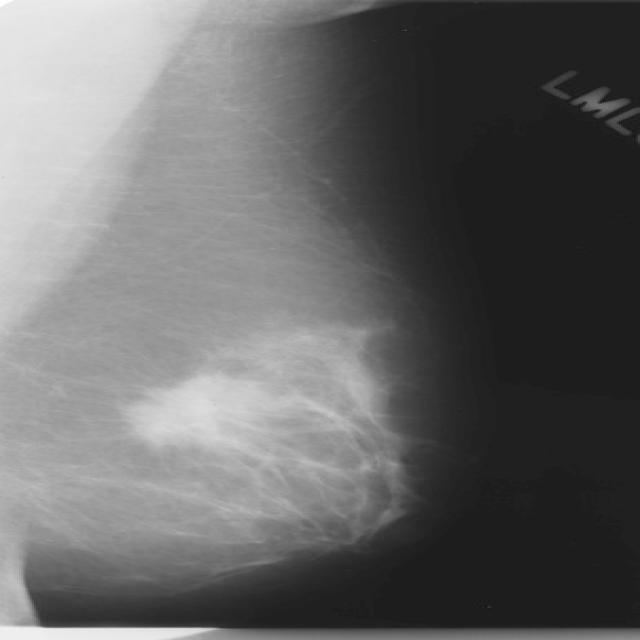tumour: (123, 371, 280, 444)
